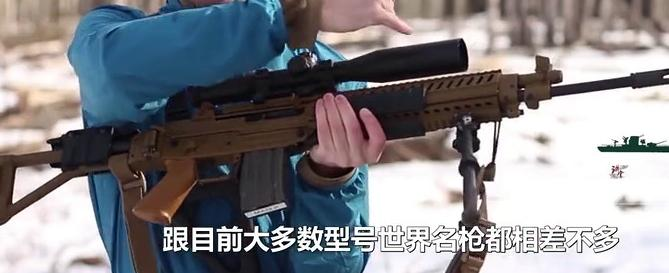gun: (1, 0, 669, 273)
